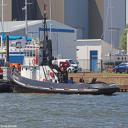tugboat: (10, 35, 121, 98)
